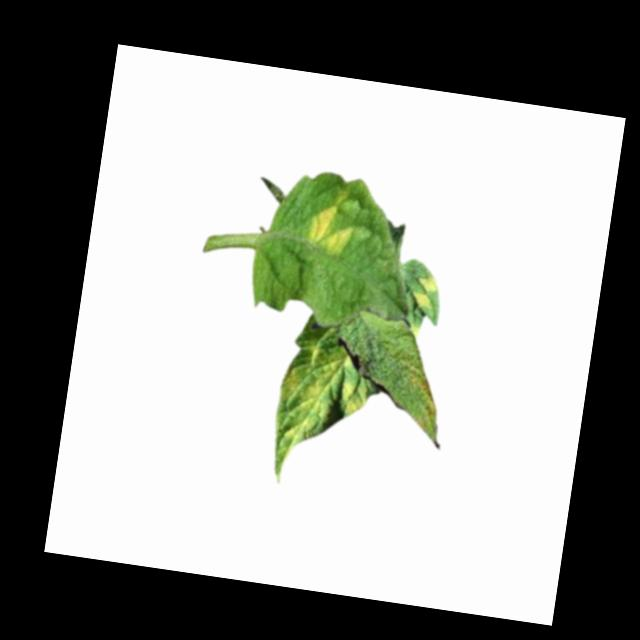Leaf_Mold: (262, 339, 374, 482), (305, 203, 357, 259), (408, 271, 442, 314)
